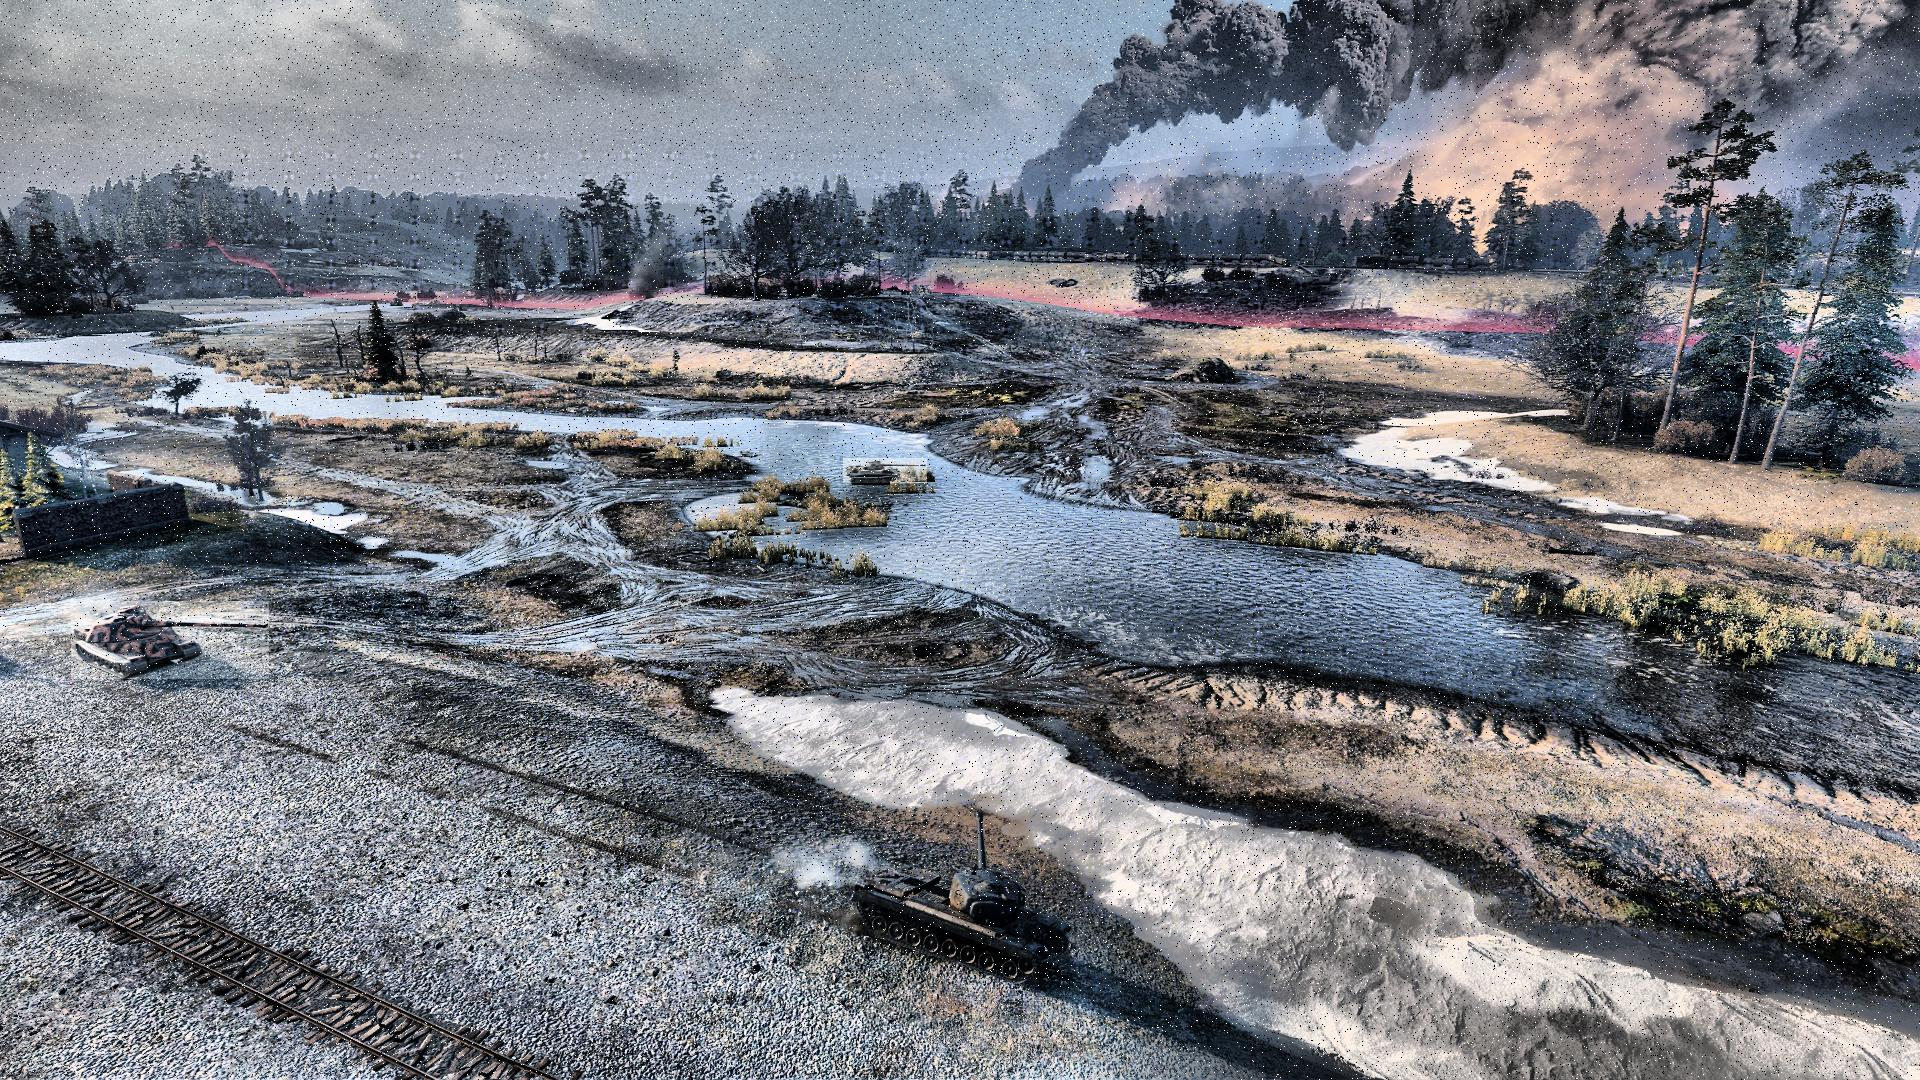military-vehicle: (848, 810, 1069, 988), (71, 601, 270, 680), (843, 459, 927, 484)
